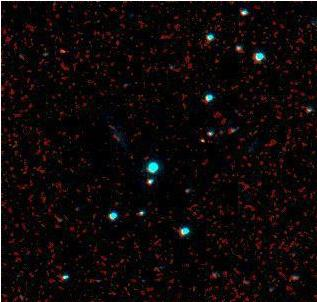star: (46, 32, 76, 62)
